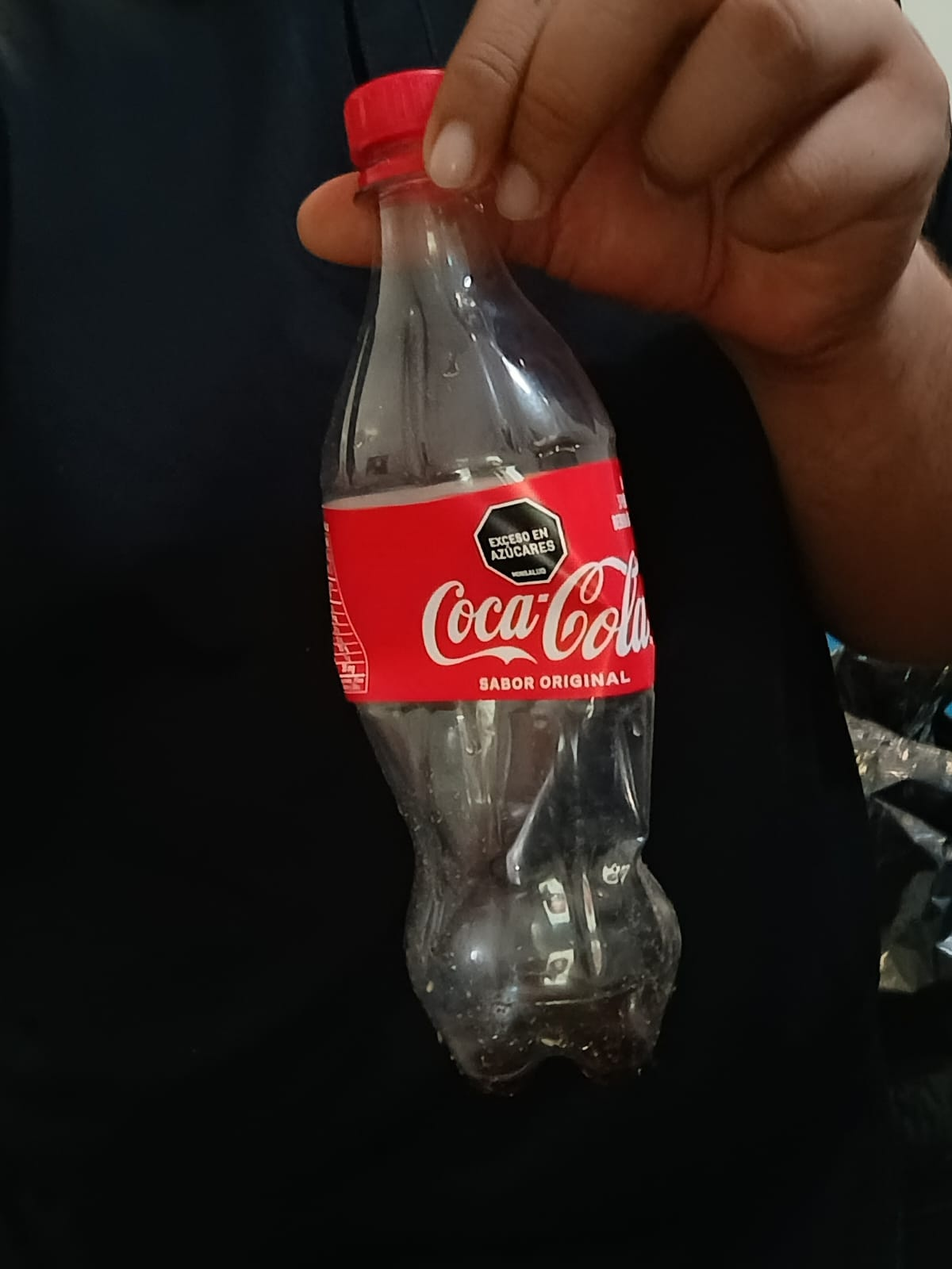Plastico: (317, 71, 683, 1083)
